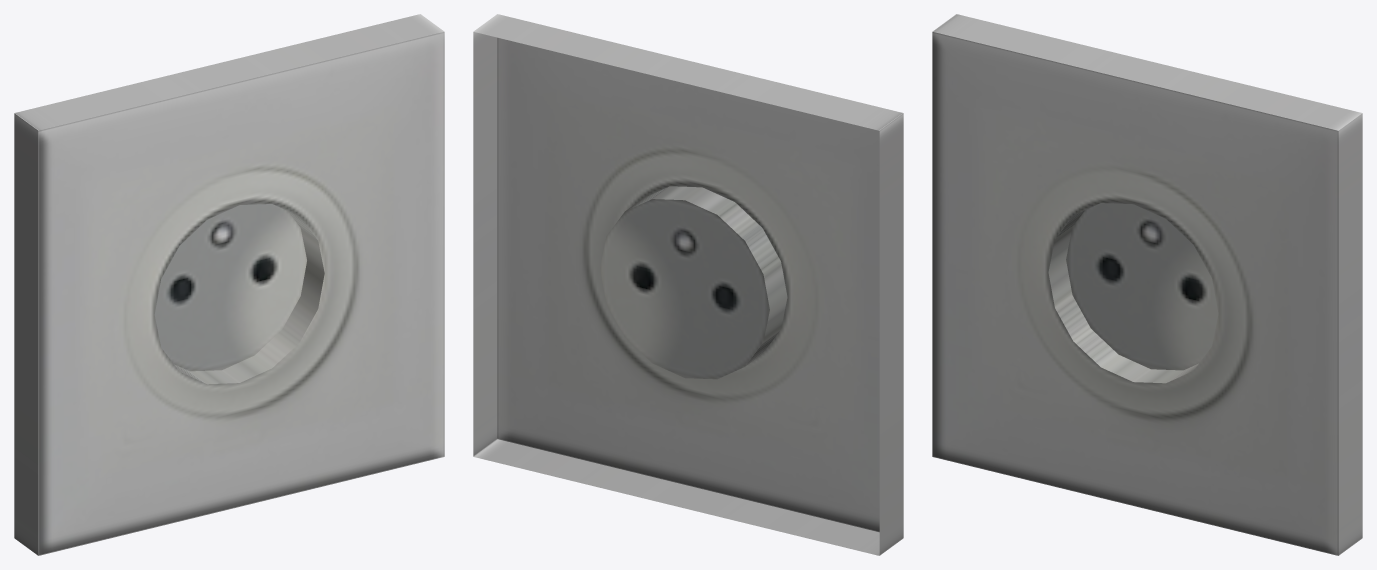
File: Obj-electric-prise_01.FBX
The picture shows the model from 3 angles, left to right: view 1: azimuth 30°, elevation 25°; view 2: azimuth 150°, elevation 25°; view 3: azimuth 330°, elevation 25°; orthographic projection.
Visible parts, largest first — view 1: Obj-electric-prise_01; view 2: Obj-electric-prise_01; view 3: Obj-electric-prise_01.
Part boxes in pixels (<box>): Obj-electric-prise_01: <box>14,14,444,555</box>; Obj-electric-prise_01: <box>473,14,903,555</box>; Obj-electric-prise_01: <box>932,14,1362,555</box>.
Size of the model in its own units: 10 by 1.03 by 10.
1 material, 1 textured.
